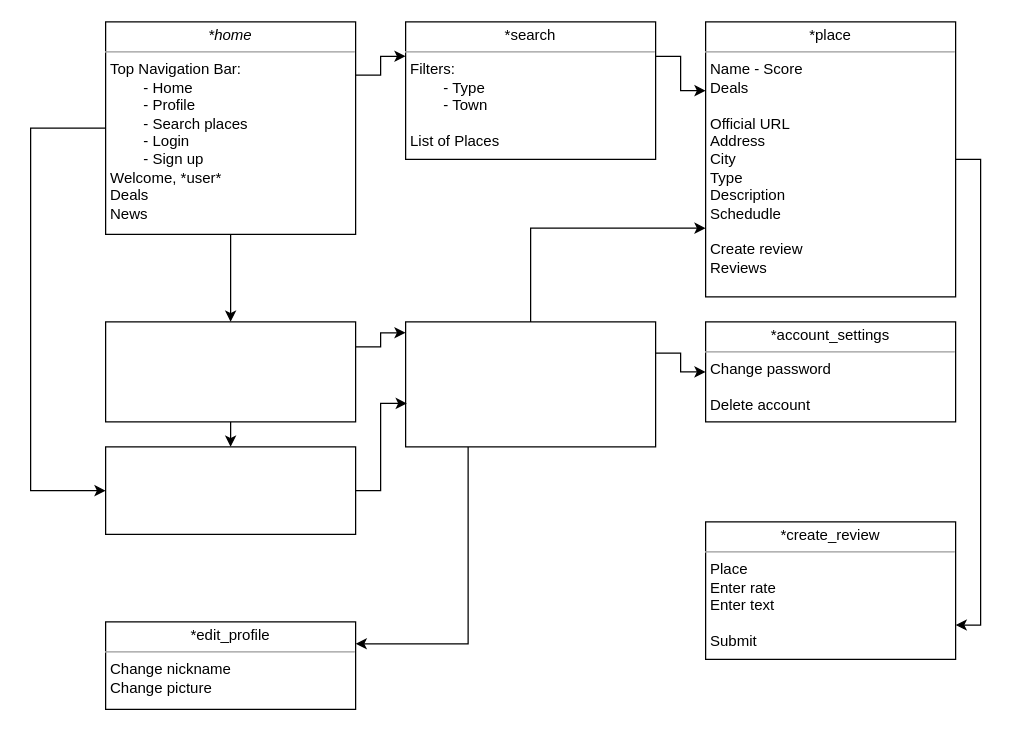
The diagram is 1013 pixels wide and 731 high, and some of its shapes have lost their labels. Here are the shapes that lost their labels. From the top down, the centre of each, then its label:
the point at 230,371: *l ogin Log in: Enter username Enter password
the point at 530,384: *profile Name / Fursona Profile picture Reviews
the point at 230,490: *sign up Enter username Enter password
